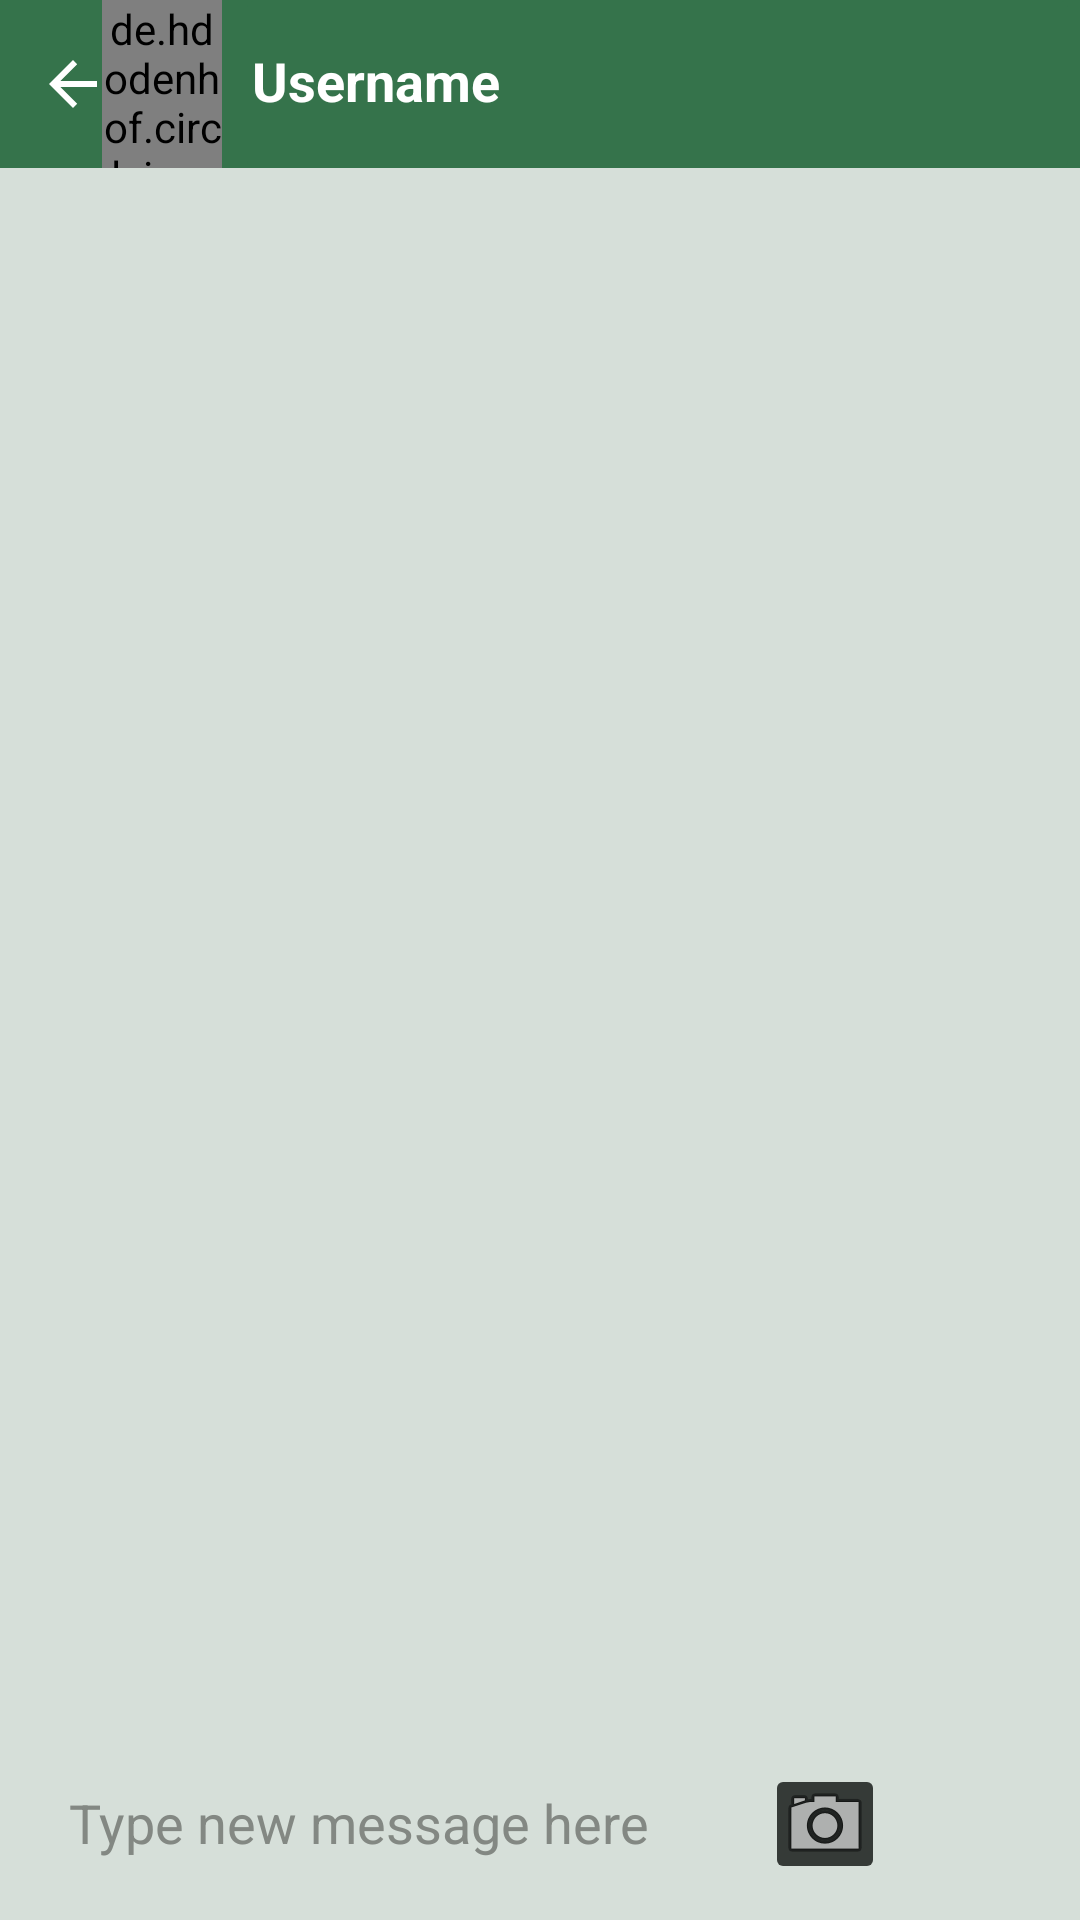

Where to tap for icons on this 1080*1920 app screen, as (x=x, y=y):
camera: (x=825, y=1824)
